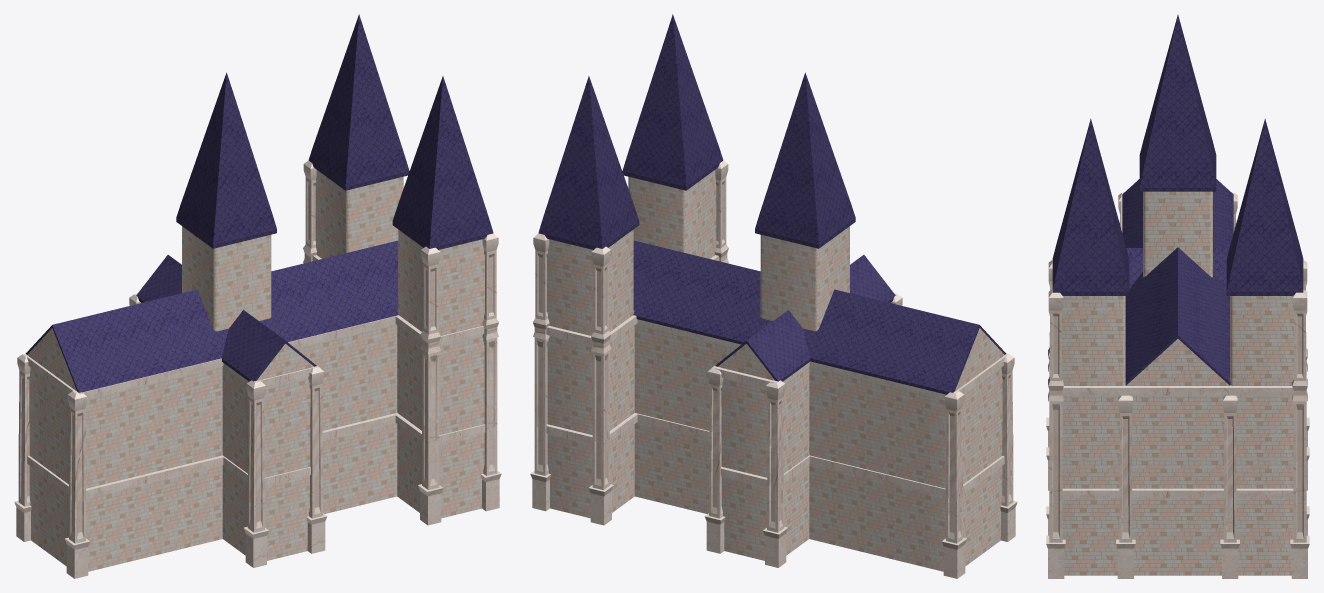
The model's file is Cathedral_With.fbx.
The picture shows the model from 3 angles, left to right: view 1: azimuth 30°, elevation 25°; view 2: azimuth 150°, elevation 25°; view 3: azimuth 270°, elevation 25°; orthographic projection. The views are drawn at different scales.
Visible parts, largest first — view 1: Cathedral.001; view 2: Cathedral.001; view 3: Cathedral.001.
Boxes of the visible parts, <box> form: Cathedral.001: <box>14,14,501,578</box>; Cathedral.001: <box>530,14,1017,578</box>; Cathedral.001: <box>1046,15,1309,578</box>.
Bounding box in the file's own units: 5425 × 5805 × 3025.
